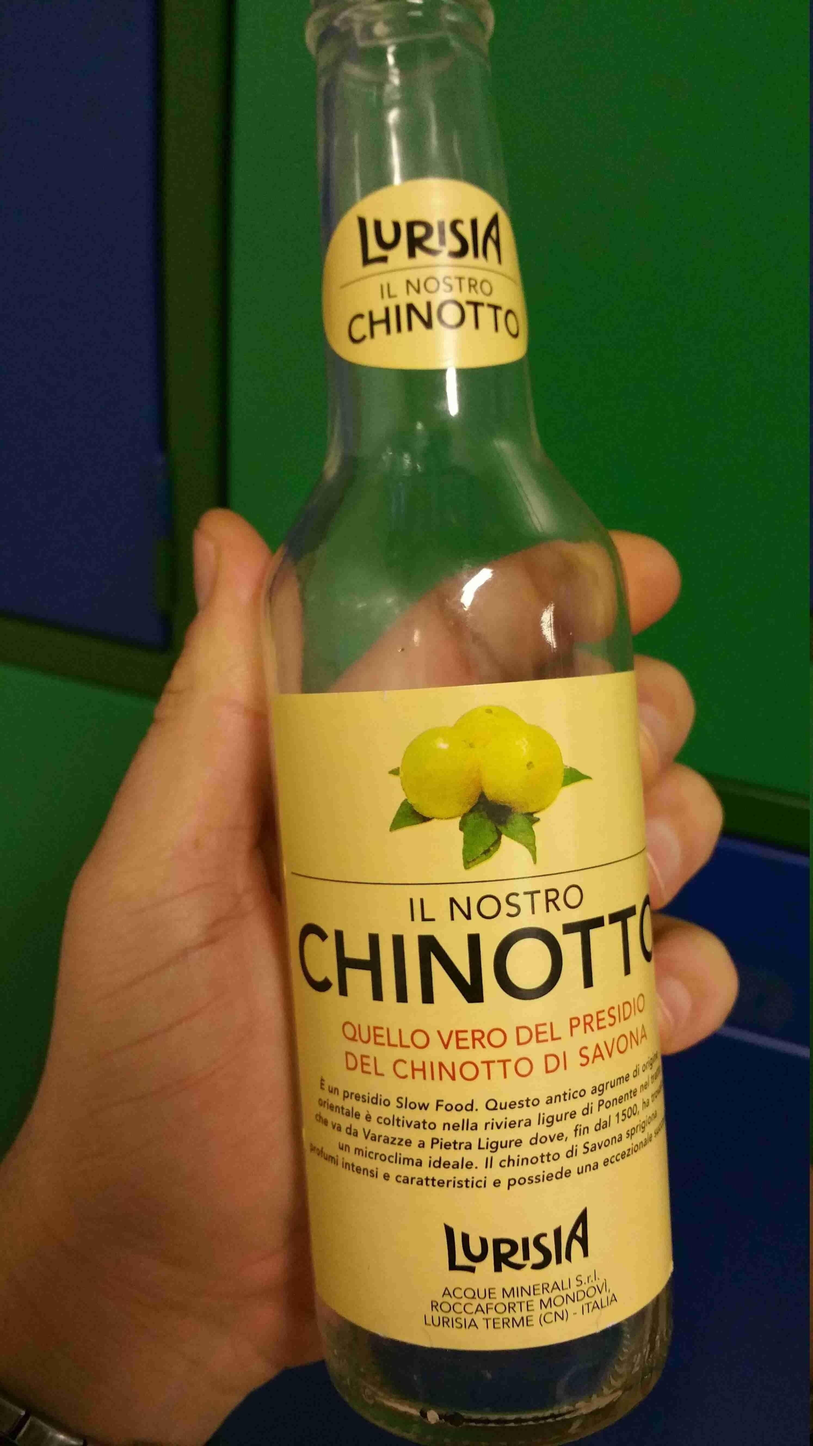bottle-glass: (254, 0, 673, 1442)
